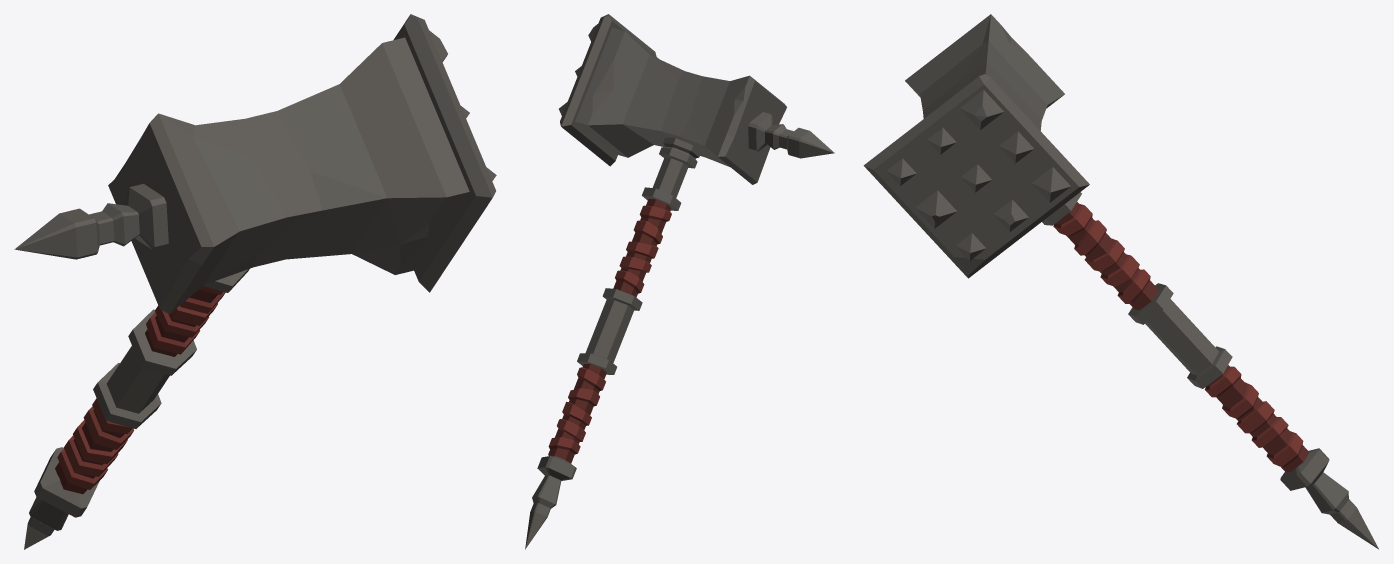
Rendered from fk-hammer-06.glb.
The picture shows the model from 3 angles, left to right: view 1: azimuth 30°, elevation 25°; view 2: azimuth 150°, elevation 25°; view 3: azimuth 270°, elevation 25°; orthographic projection. The views are drawn at different scales.
Visible parts, largest first — view 1: fk-hammer-06; view 2: fk-hammer-06; view 3: fk-hammer-06.
Boxes of the visible parts, bbox=[...] form: fk-hammer-06: bbox=[14, 14, 496, 549]; fk-hammer-06: bbox=[525, 14, 834, 549]; fk-hammer-06: bbox=[863, 14, 1378, 549].
Size of the model in its own units: 0.6742 by 1.03 by 0.9303.
1 material, 1 textured.
